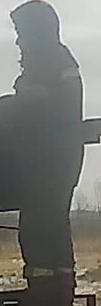vest: (15, 55, 82, 196)
